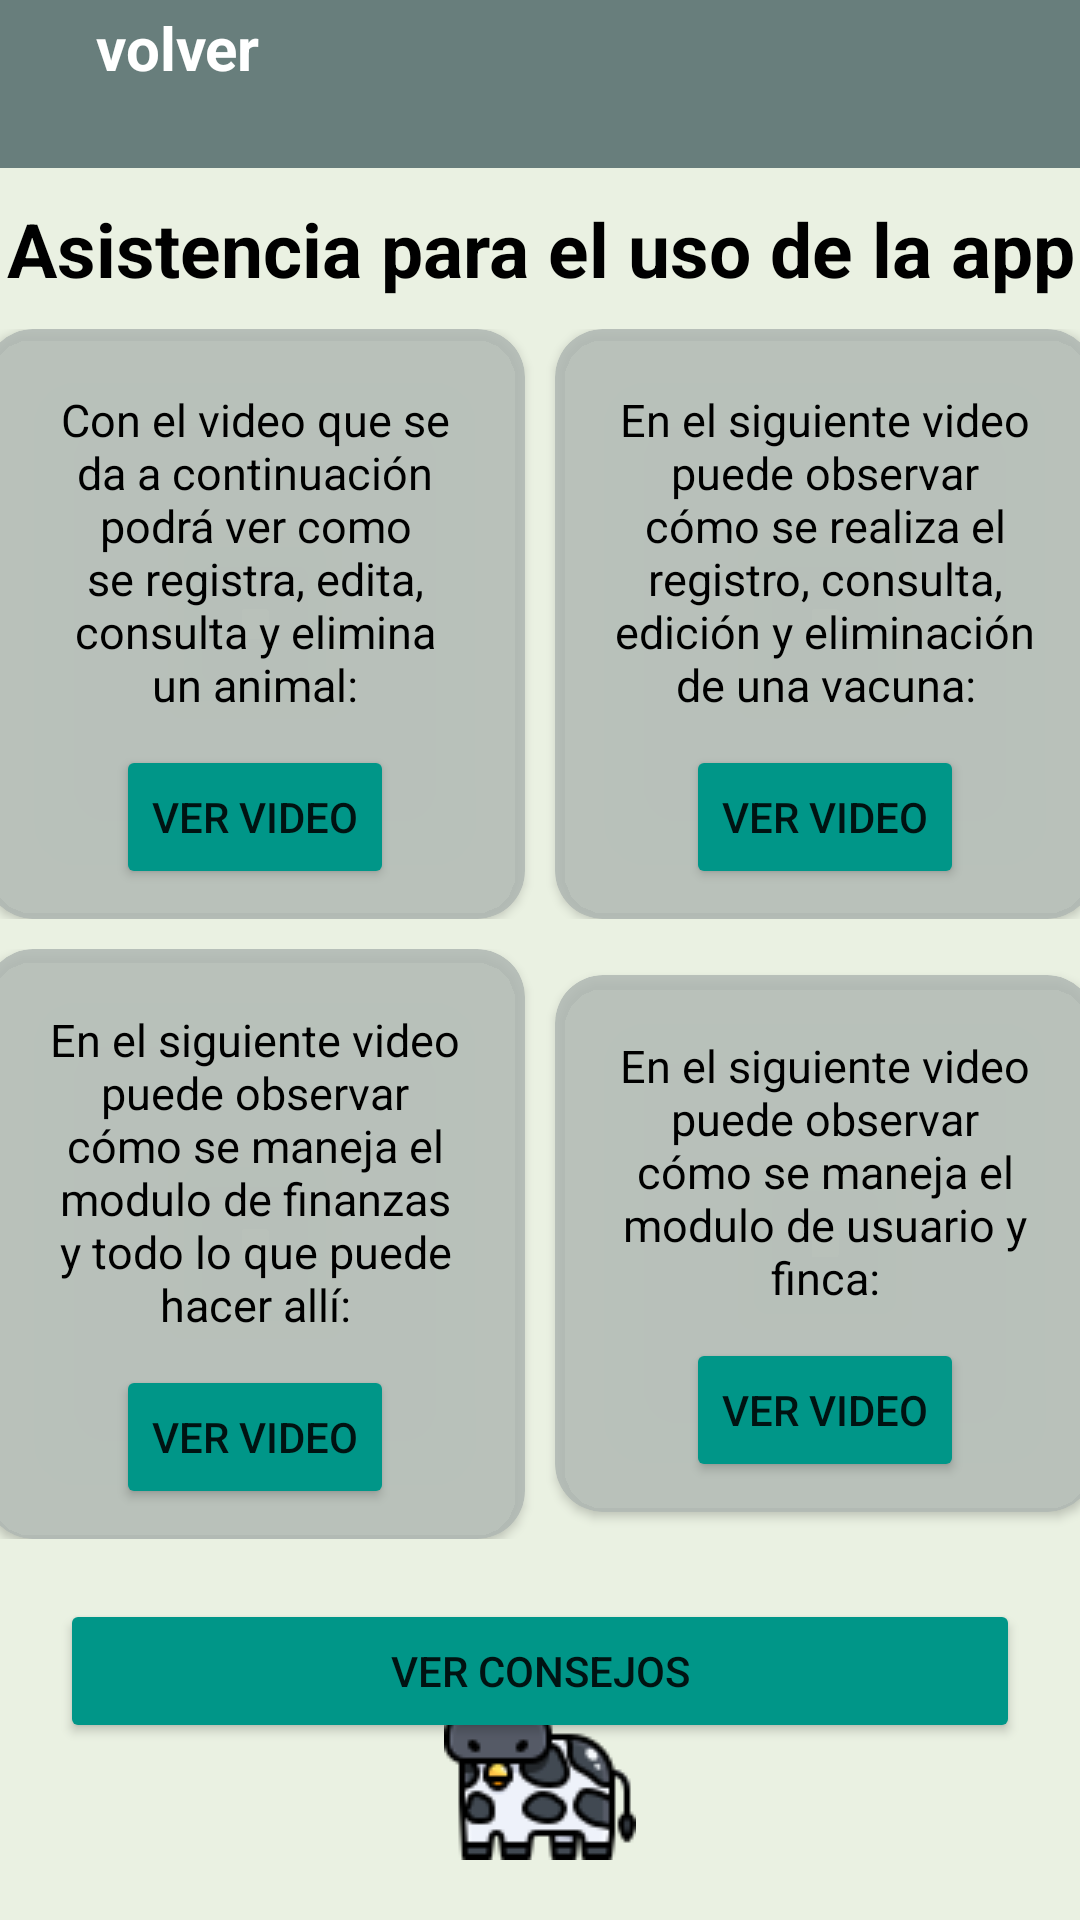

Icon click points for this 1080 x 1920 phone screenshot, format [x,y]:
cow: [540,1764]
